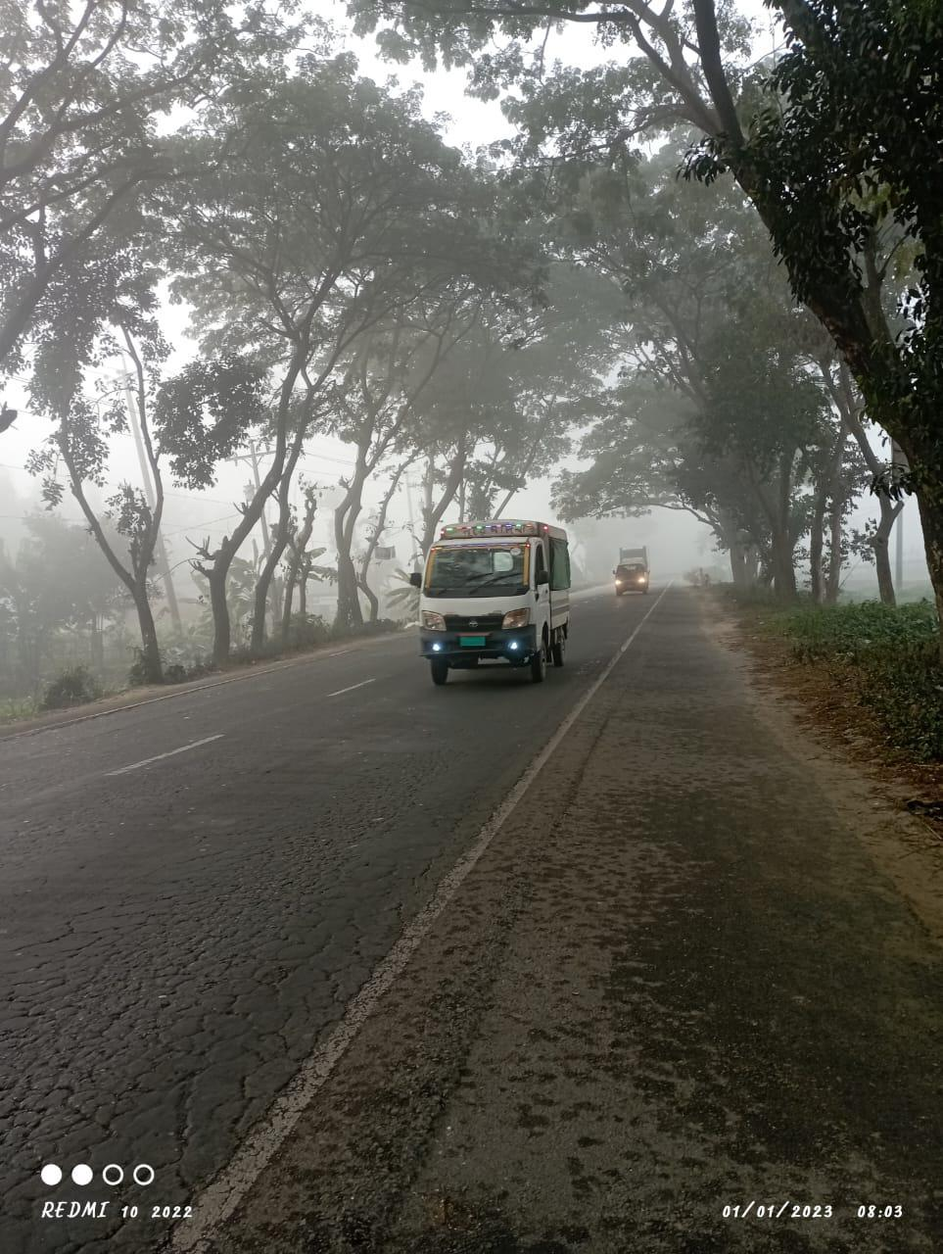Car: (407, 508, 582, 704)
Truck: (599, 540, 664, 607)
